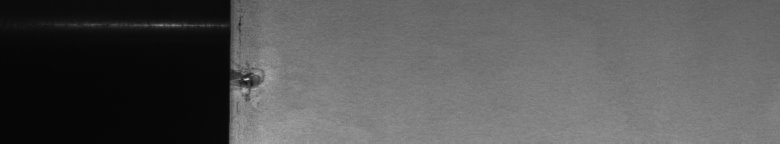hb: (240, 9, 272, 117)
